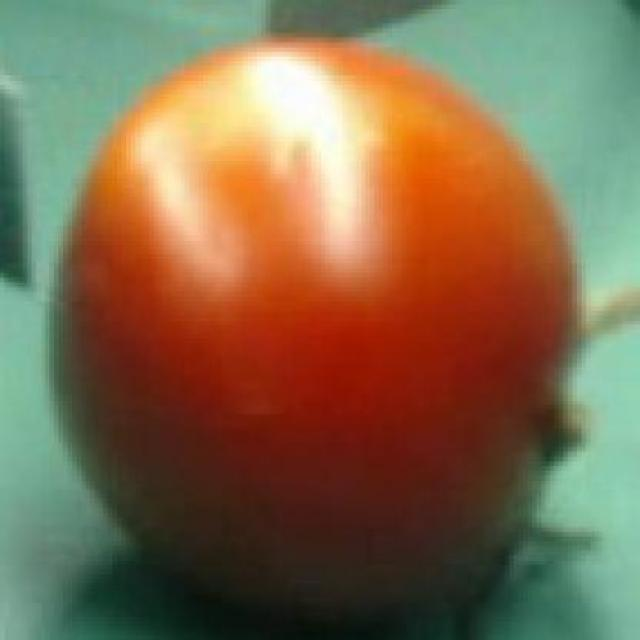tomato: (46, 40, 585, 634)
